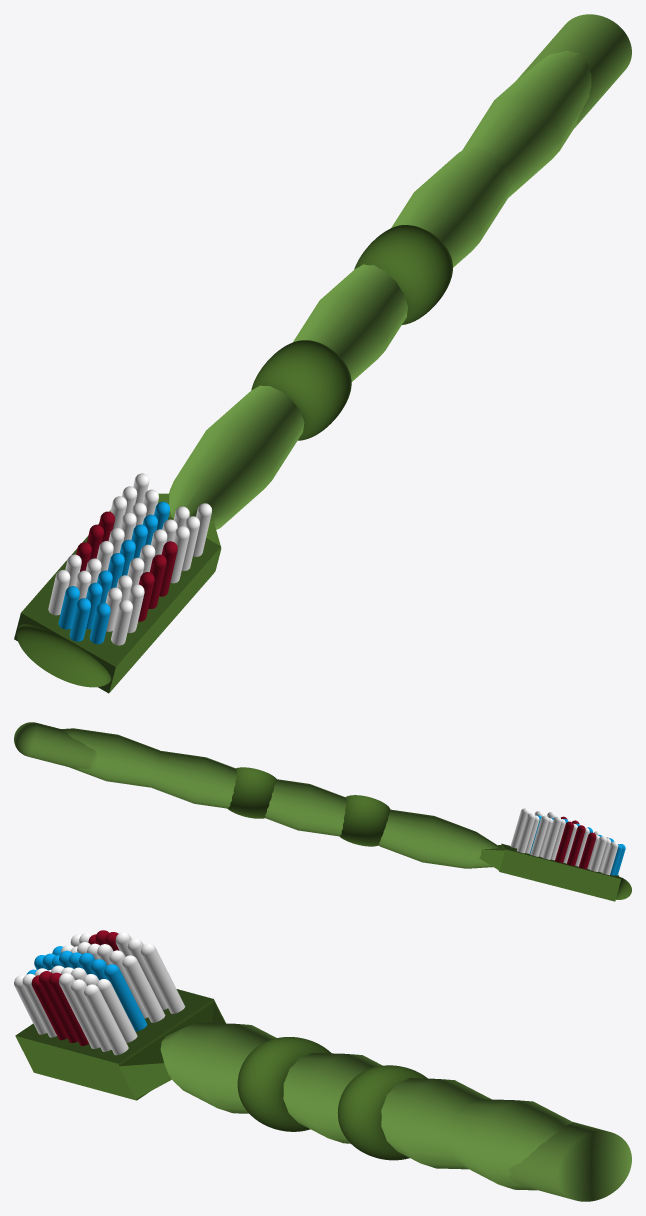
Rendered from toothbrush.obj.
The picture shows the model from 3 angles, top to bottom: view 1: azimuth 30°, elevation 25°; view 2: azimuth 150°, elevation 25°; view 3: azimuth 270°, elevation 25°; orthographic projection. The views are drawn at different scales.
Visible parts, largest first — view 1: obj48, obj49, obj51, obj50, obj7, obj1, obj2, obj52, obj6; view 2: obj48, obj51, obj50, obj49, obj7, obj52, obj1, obj2, obj5, obj44, obj47, obj46 (+6 smaller); view 3: obj49, obj52, obj48, obj7, obj51, obj50, obj1, obj2, obj5, obj9, obj45, obj29 (+11 smaller).
Boxes of the visible parts, x1=… form: obj48: x1=169, y1=385, x2=304, y2=529; obj49: x1=462, y1=50, x2=591, y2=197; obj51: x1=391, y1=147, x2=512, y2=267; obj50: x1=293, y1=264, x2=407, y2=381; obj7: x1=14, y1=510, x2=220, y2=693; obj1: x1=251, y1=340, x2=351, y2=440; obj2: x1=354, y1=225, x2=452, y2=324; obj52: x1=516, y1=14, x2=631, y2=128; obj6: x1=16, y1=624, x2=111, y2=687; obj48: x1=378, y1=809, x2=500, y2=868; obj51: x1=151, y1=751, x2=237, y2=808; obj50: x1=265, y1=779, x2=346, y2=836; obj49: x1=61, y1=728, x2=160, y2=787; obj7: x1=498, y1=843, x2=620, y2=901; obj52: x1=14, y1=722, x2=97, y2=768; obj1: x1=339, y1=795, x2=390, y2=846; obj2: x1=227, y1=767, x2=276, y2=818; obj5: x1=479, y1=845, x2=504, y2=870; obj44: x1=542, y1=816, x2=561, y2=859; obj47: x1=555, y1=821, x2=573, y2=863; obj46: x1=530, y1=815, x2=549, y2=856; obj49: x1=448, y1=1099, x2=572, y2=1190; obj52: x1=509, y1=1121, x2=631, y2=1201; obj48: x1=160, y1=1022, x2=276, y2=1113; obj7: x1=15, y1=989, x2=225, y2=1100; obj51: x1=381, y1=1078, x2=490, y2=1169; obj50: x1=283, y1=1053, x2=382, y2=1143; obj1: x1=237, y1=1037, x2=331, y2=1131; obj2: x1=337, y1=1065, x2=427, y2=1160; obj5: x1=118, y1=1002, x2=224, y2=1099; obj9: x1=84, y1=984, x2=128, y2=1055; obj45: x1=140, y1=943, x2=185, y2=1013; obj29: x1=122, y1=955, x2=165, y2=1022.
Size of the model in its own units: 0.5746 by 0.2016 by 0.3402.
9 materials, 9 textured.
